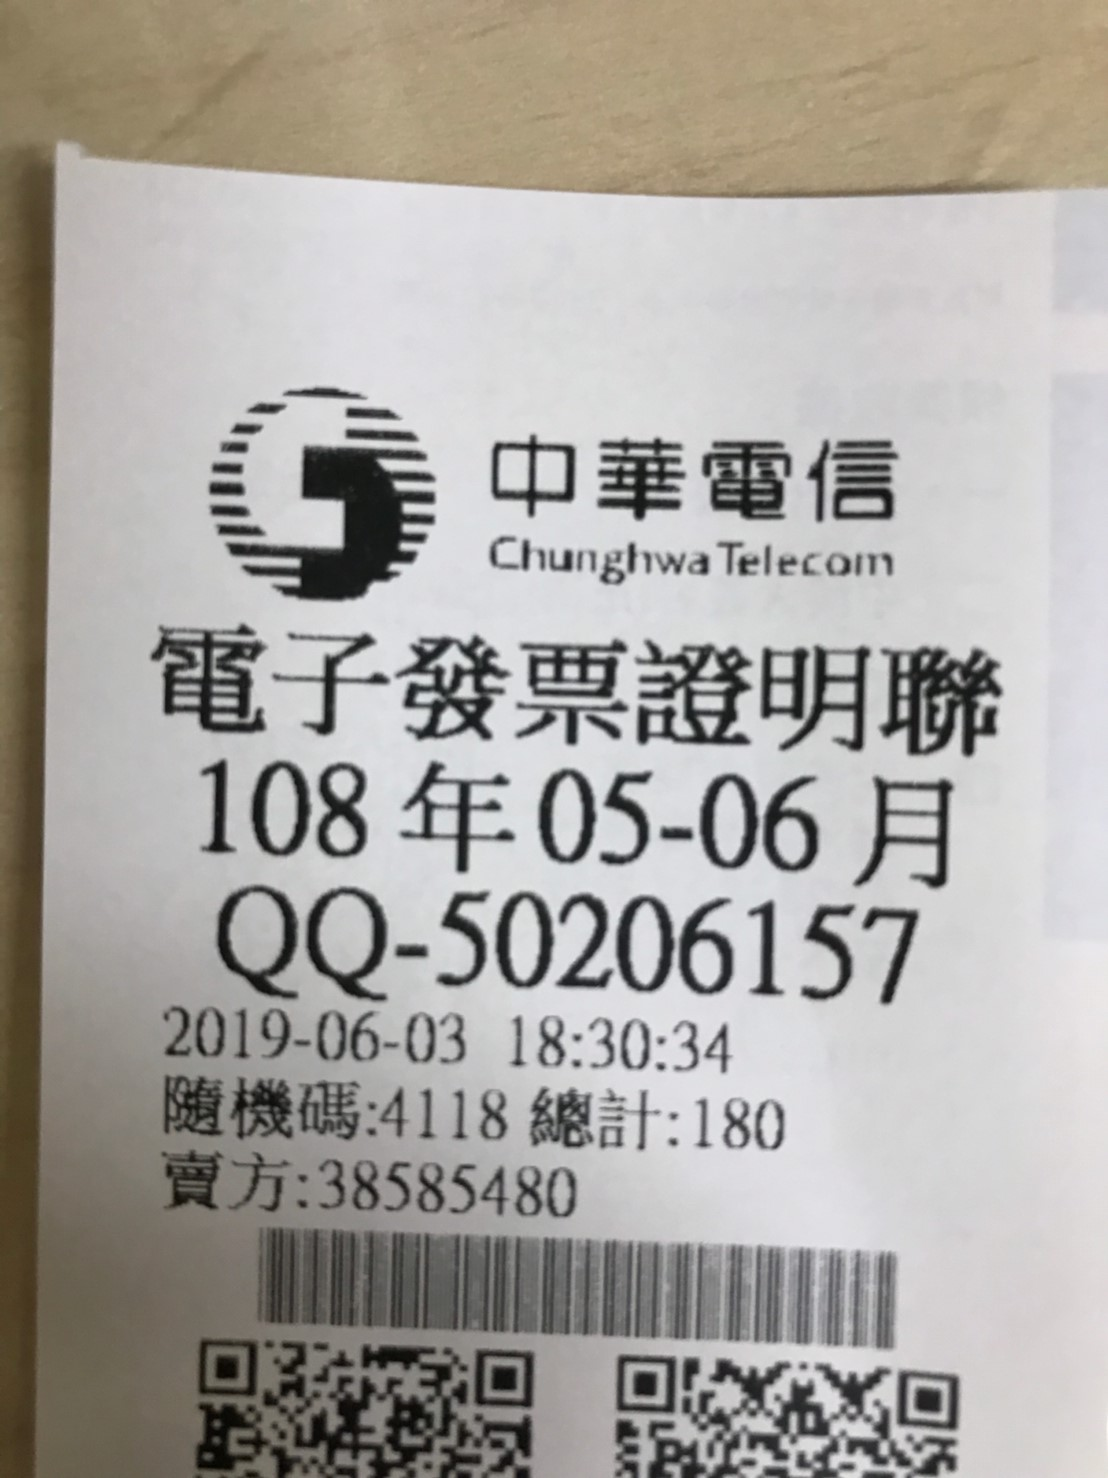Date_New: (196, 754, 957, 894)
Number_New: (434, 881, 922, 1004)
